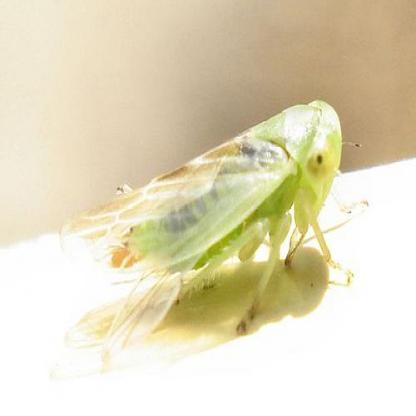green-leafhopper: (63, 97, 354, 365)
